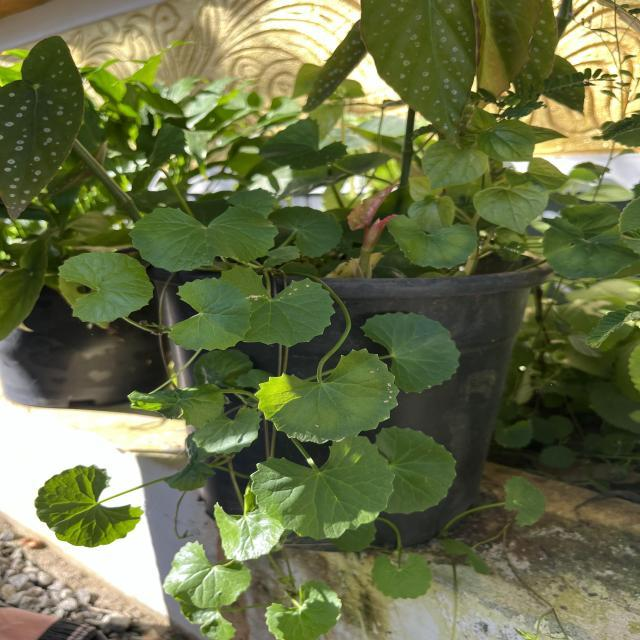Centella asiatica: (247, 434, 398, 542), (252, 346, 402, 446), (126, 203, 282, 274), (216, 262, 338, 350), (32, 462, 147, 550), (55, 249, 157, 324), (166, 275, 254, 353)
